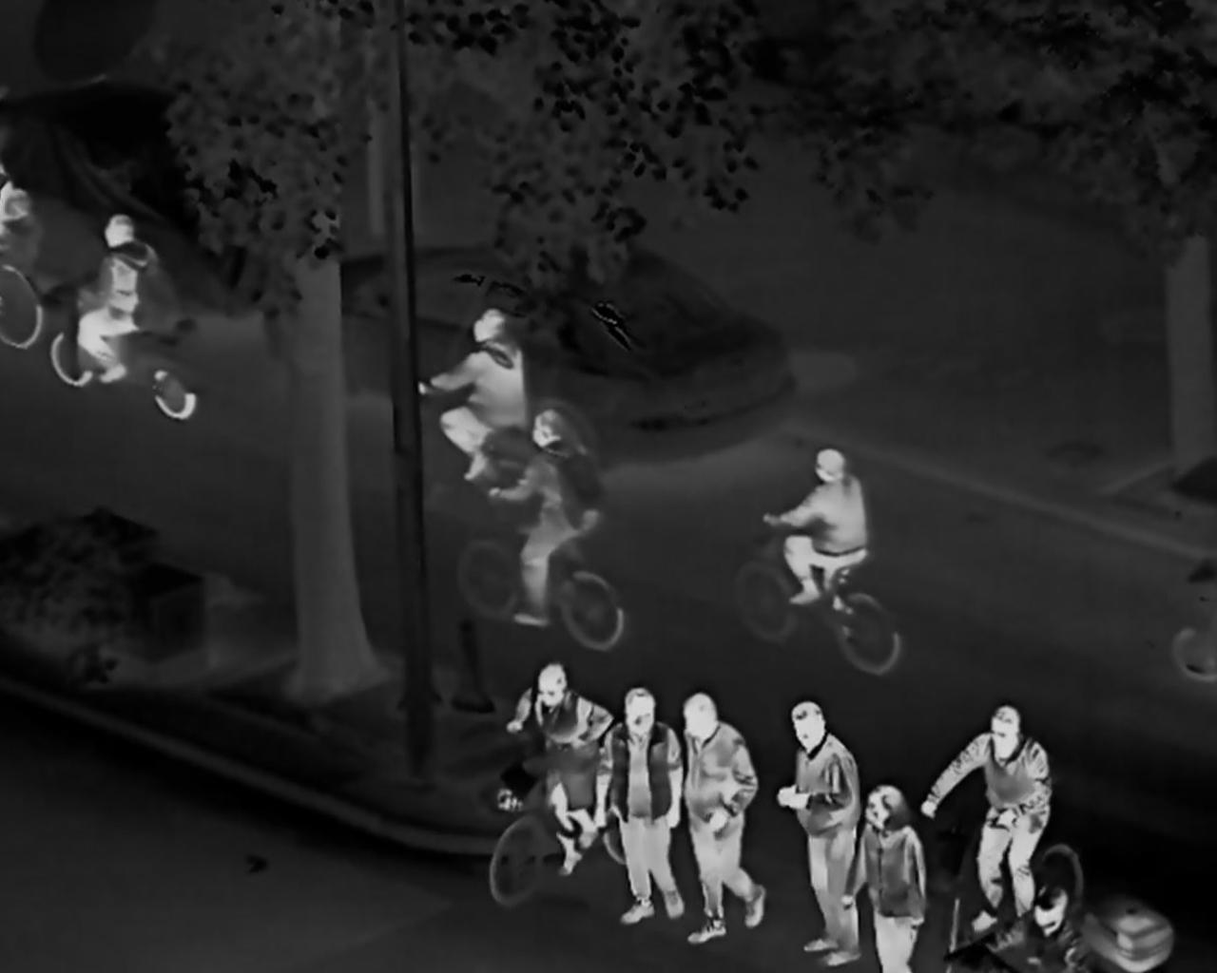person: (918, 704, 1042, 937), (504, 660, 614, 875), (492, 412, 599, 627), (774, 701, 860, 967), (677, 693, 763, 943), (408, 308, 528, 482), (762, 447, 868, 620), (608, 686, 686, 921), (65, 211, 165, 383), (842, 787, 926, 973), (955, 886, 1084, 973)
